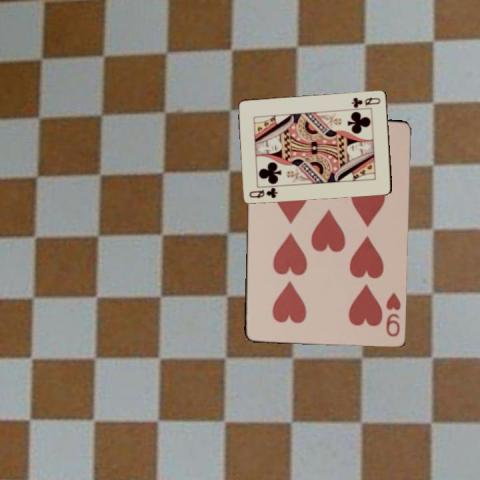9h: (383, 289, 402, 338)
Qc: (349, 94, 382, 108), (246, 185, 279, 199)
